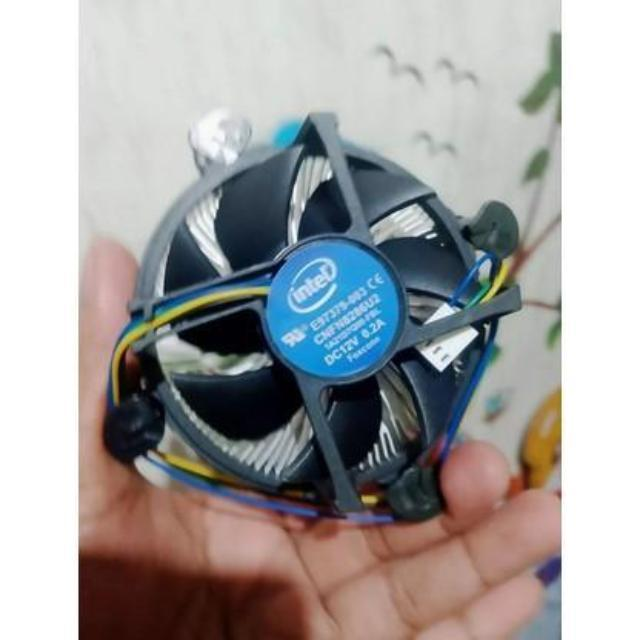CPU_Fan: (118, 119, 502, 524)
